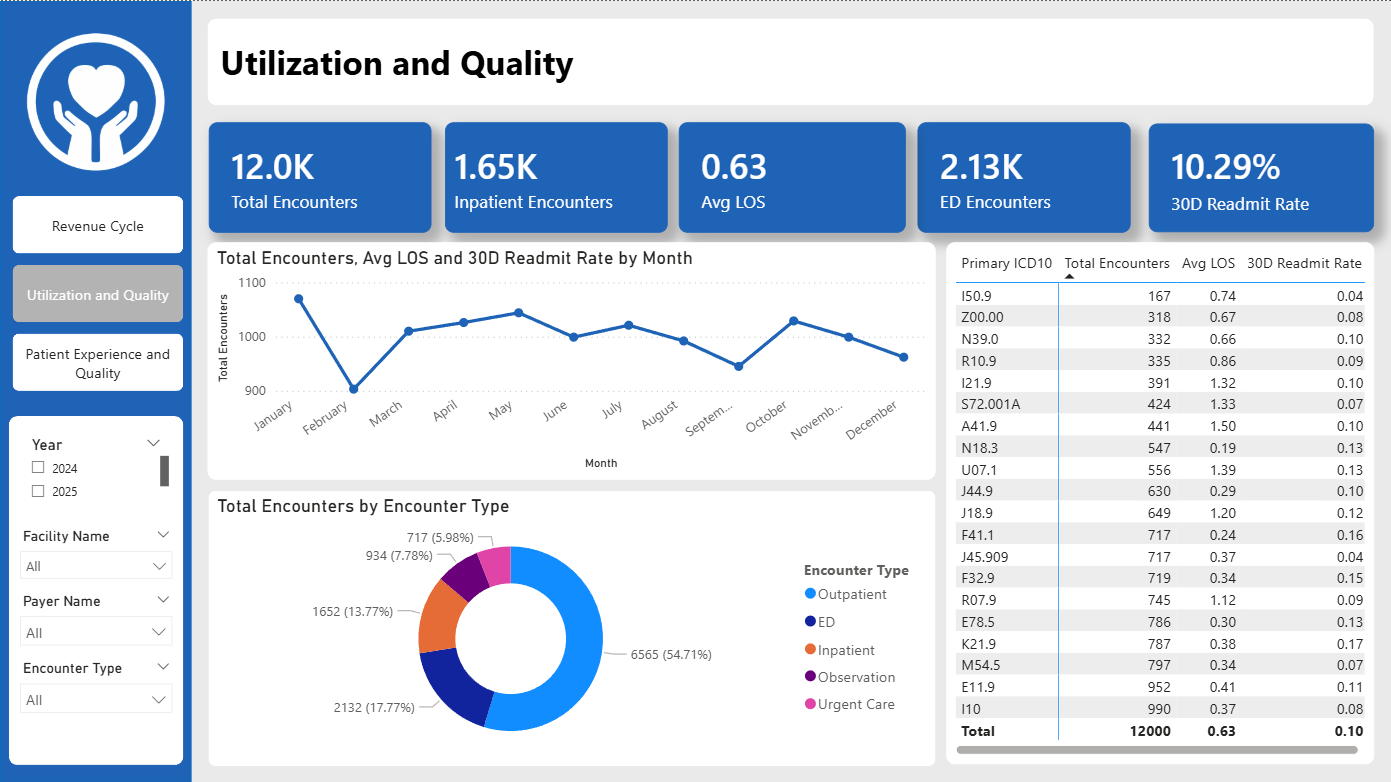

The page's visual inventory and layout, read from the dashboard file:
{"tool":"powerbi","page":{"name":"Utilization and Quality","canvas":[1280,720],"ordinal":1},"visuals":[{"type":"shape","box":[0,0,176,720],"z":0},{"type":"shape","box":[8.2,381.5,160.5,321.1],"z":1000},{"type":"image","box":[16,0,144,192],"z":2000},{"type":"slicer","fields":{"Values":["dim_facility.facility_name"]},"box":[8.2,478.9,160.5,86.4],"z":3000},{"type":"slicer","fields":{"Values":["dim_payer.payer_name"]},"box":[8.2,539.3,160.5,74.1],"z":4000},{"type":"slicer","fields":{"Values":["curated_encounter_v.encounter_type"]},"box":[8.2,601,160.5,64.5],"z":5000},{"type":"shape","box":[191.3,15.9,1072.5,79.7],"z":6000},{"type":"cardVisual","fields":{"Data":["curated_claim_line.Total Encounters"]},"box":[192.1,111.1,204.5,101.5],"z":7000},{"type":"cardVisual","fields":{"Data":["curated_claim_line.Inpatient Encounters"]},"box":[408.9,111.1,204.5,101.5],"z":8000},{"type":"cardVisual","fields":{"Data":["curated_claim_line.ED Encounters"]},"box":[843.9,111.1,196.2,101.5],"z":9000},{"type":"cardVisual","fields":{"Data":["curated_claim_line.Avg LOS"]},"box":[624.4,111.1,208.6,101.5],"z":10000},{"type":"cardVisual","fields":{"Data":["curated_claim_line.30D Readmit Rate"]},"box":[1056.6,112.5,207.2,100.2],"z":11000},{"type":"lineChart","fields":{"Category":["dim_date_encounter.date.Variation.Date Hierarchy.Month"],"Y":["curated_claim_line.Total Encounters"]},"box":[190.7,222.3,669.6,218.2],"z":12000},{"type":"donutChart","title":"Total Encounters by Encounter Type","fields":{"Category":["curated_encounter_v.encounter_type"],"Y":["curated_claim_line.Total Encounters"]},"box":[192.1,450.1,668.3,252.5],"z":13000},{"type":"pivotTable","fields":{"Rows":["curated_encounter_v.primary_icd10"],"Values":["curated_claim_line.Total Encounters","curated_claim_line.Avg LOS","curated_claim_line.30D Readmit Rate"]},"box":[870,222.3,393.8,480.3],"z":14000},{"type":"slicer","fields":{"Values":["dim_date_encounter.year"]},"box":[16.5,393.8,144.1,68.6],"z":15000},{"type":"pageNavigator","box":[11,179.8,157.8,179.8],"z":16000}]}

Visuals, with their boxes on the page's 1280x720 design canvas (x1, y1, x2, y2). These are canvas units, not pixel positions in the 1391x782 screenshot, which may show the page scaled, cropped or inside an application window:
shape: 0, 0, 176, 720
shape: 8, 382, 169, 703
image: 16, 0, 160, 192
slicer - dim_facility.facility_name: 8, 479, 169, 565
slicer - dim_payer.payer_name: 8, 539, 169, 613
slicer - curated_encounter_v.encounter_type: 8, 601, 169, 666
shape: 191, 16, 1264, 96
cardVisual - curated_claim_line.Total Encounters: 192, 111, 397, 213
cardVisual - curated_claim_line.Inpatient Encounters: 409, 111, 613, 213
cardVisual - curated_claim_line.ED Encounters: 844, 111, 1040, 213
cardVisual - curated_claim_line.Avg LOS: 624, 111, 833, 213
cardVisual - curated_claim_line.30D Readmit Rate: 1057, 112, 1264, 213
lineChart - dim_date_encounter.date.Variation.Date Hierarchy.Month x curated_claim_line.Total Encounters: 191, 222, 860, 440
"Total Encounters by Encounter Type" donutChart: 192, 450, 860, 703
pivotTable - curated_encounter_v.primary_icd10 x curated_claim_line.Total Encounters: 870, 222, 1264, 703
slicer - dim_date_encounter.year: 16, 394, 161, 462
pageNavigator: 11, 180, 169, 360
